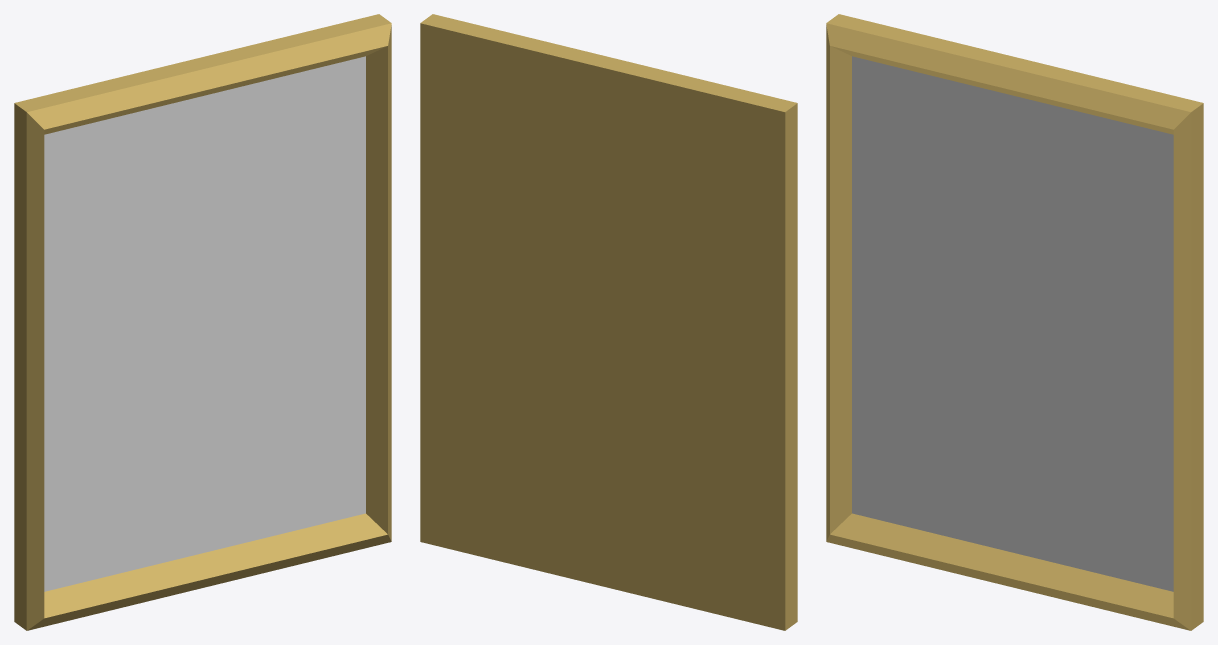
Rendered from SM_PictureFrame.fbx.
3 views of the same model, side by side, from view 1: azimuth 30°, elevation 25°; view 2: azimuth 150°, elevation 25°; view 3: azimuth 330°, elevation 25° (orthographic).
Parts seen in each view (by area): view 1: SM_PictureFrame; view 2: SM_PictureFrame; view 3: SM_PictureFrame.
Part boxes in pixels (x1=…): SM_PictureFrame: x1=14, y1=14, x2=391, y2=630; SM_PictureFrame: x1=420, y1=14, x2=797, y2=630; SM_PictureFrame: x1=826, y1=14, x2=1203, y2=630.
Bounding box in the file's own units: 33.5 × 45.5 × 3.1.
